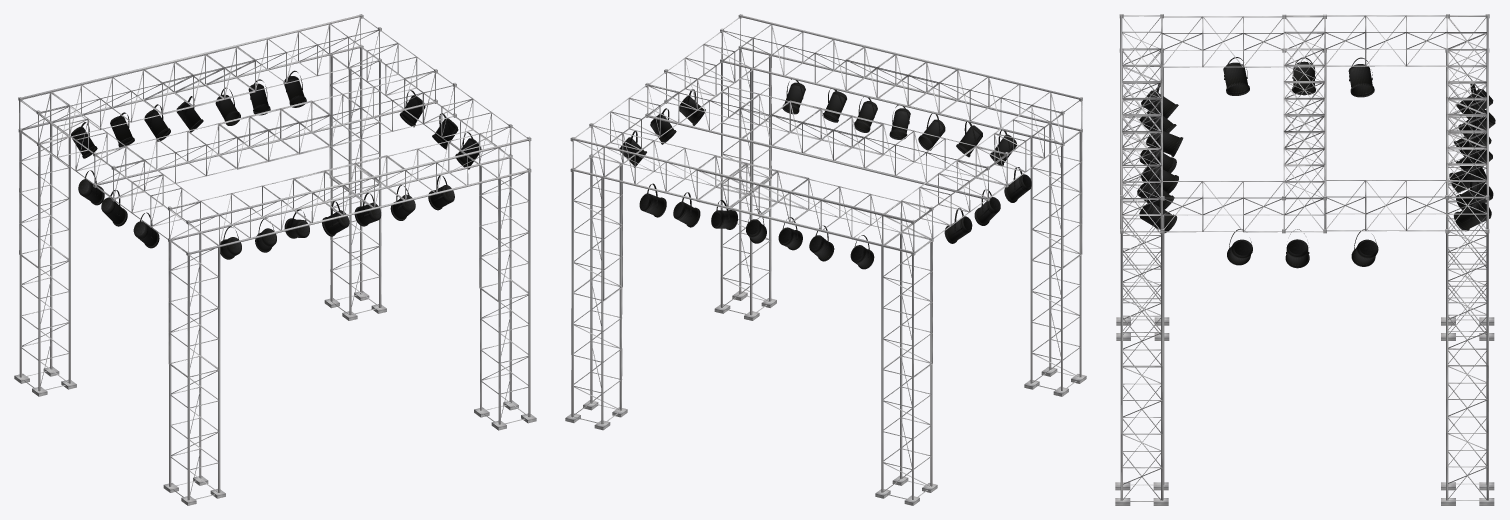
Rendered from baseLuces.obj.
The picture shows the model from 3 angles, left to right: view 1: azimuth 30°, elevation 25°; view 2: azimuth 150°, elevation 25°; view 3: azimuth 270°, elevation 25°; orthographic projection. The views are drawn at different scales.
Visible parts, largest first — view 1: Cube_005_Cube_016, Cube_003_Cube_014, Cube_002_Cube_013, Cube_004_Cube_015, Cube_007_Cube_018, Cube_006_Cube_017, Cube_008_Cube_019, Cube_011_Cube_022, Cube_001, Cube_010_Cube_021, Cube_009_Cube_020, Cube_001_Cube_012 (+18 smaller); view 2: Cube_002_Cube_013, Cube_005_Cube_016, Cube_004_Cube_015, Cube_003_Cube_014, Cube_001, Cube_006_Cube_017, Cube_007_Cube_018, Cube_008_Cube_019, Cube_009_Cube_020, Cube_010_Cube_021, Cube_001_Cube_012, Cube_011_Cube_022 (+17 smaller); view 3: Cube_004_Cube_015, Cube_005_Cube_016, Cube_001, Cube_011_Cube_022, Cube_006_Cube_017, Cube_007_Cube_018, Cube_008_Cube_019, Cube_003_Cube_014, Cube_009_Cube_020, Cube_002_Cube_013, Cube_010_Cube_021, Cube_001_Cube_012 (+27 smaller).
Boxes of the visible parts, box(x1,y1,x2,y2) form: Cube_005_Cube_016: box(20, 92, 200, 239); Cube_003_Cube_014: box(19, 40, 286, 144); Cube_002_Cube_013: box(112, 16, 379, 122); Cube_004_Cube_015: box(330, 17, 510, 163); Cube_007_Cube_018: box(187, 71, 454, 175); Cube_006_Cube_017: box(95, 94, 361, 197); Cube_008_Cube_019: box(262, 126, 530, 230); Cube_011_Cube_022: box(479, 164, 528, 424); Cube_001: box(329, 54, 381, 314); Cube_010_Cube_021: box(168, 233, 218, 499); Cube_009_Cube_020: box(169, 149, 436, 252); Cube_001_Cube_012: box(19, 123, 68, 390); Cube_002_Cube_013: box(573, 125, 839, 229); Cube_005_Cube_016: box(882, 106, 1063, 251); Cube_004_Cube_015: box(572, 30, 753, 176); Cube_003_Cube_014: box(666, 148, 933, 253); Cube_001: box(571, 156, 622, 423); Cube_006_Cube_017: box(740, 94, 1007, 197); Cube_007_Cube_018: box(647, 72, 914, 174); Cube_008_Cube_019: box(721, 17, 989, 120); Cube_009_Cube_020: box(814, 40, 1082, 142); Cube_010_Cube_021: box(1032, 123, 1082, 390); Cube_001_Cube_012: box(883, 232, 932, 499); Cube_011_Cube_022: box(720, 48, 771, 314); Cube_004_Cube_015: box(1161, 180, 1488, 232); Cube_005_Cube_016: box(1162, 15, 1486, 67); Cube_001: box(1446, 213, 1488, 500); Cube_011_Cube_022: box(1121, 214, 1162, 501); Cube_006_Cube_017: box(1283, 15, 1325, 182); Cube_007_Cube_018: box(1283, 65, 1325, 232); Cube_008_Cube_019: box(1120, 64, 1162, 232); Cube_003_Cube_014: box(1446, 16, 1486, 181); Cube_009_Cube_020: box(1122, 15, 1162, 179); Cube_002_Cube_013: box(1446, 66, 1486, 230); Cube_010_Cube_021: box(1123, 49, 1160, 336); Cube_001_Cube_012: box(1448, 50, 1486, 336).
Bounding box in the file's own units: 30.62 × 23.56 × 26.33.
